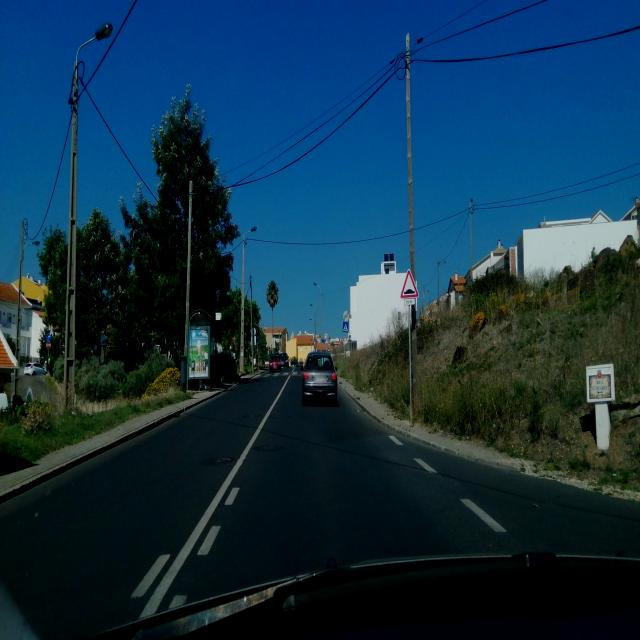car: (301, 349, 339, 406), (22, 359, 47, 377)
